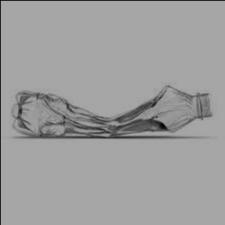bottle: (7, 78, 216, 148)
